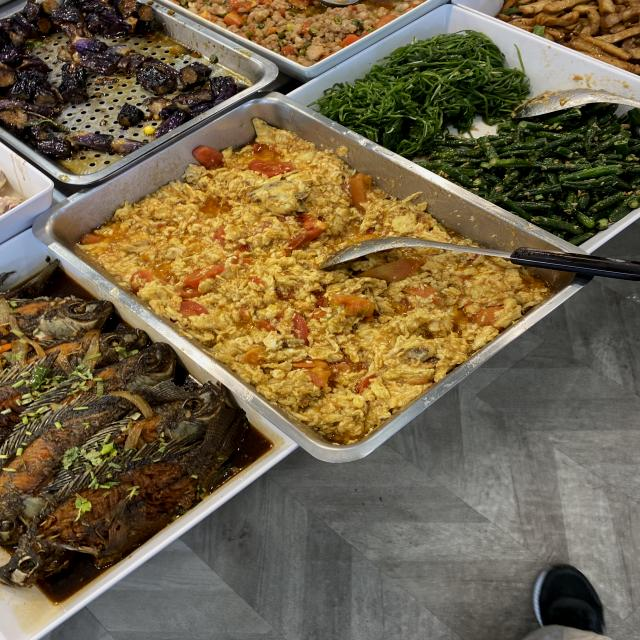Scramble Egg with Tomatoes: (156, 192, 312, 296)
